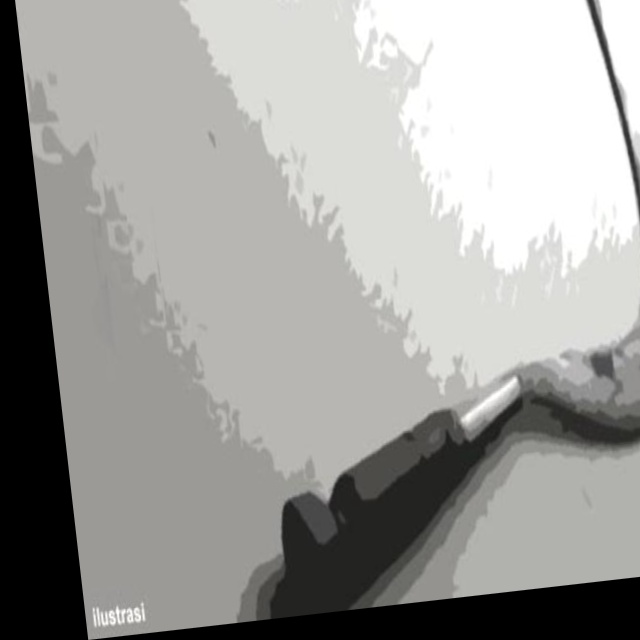Sharp-Object: (210, 0, 640, 597)
